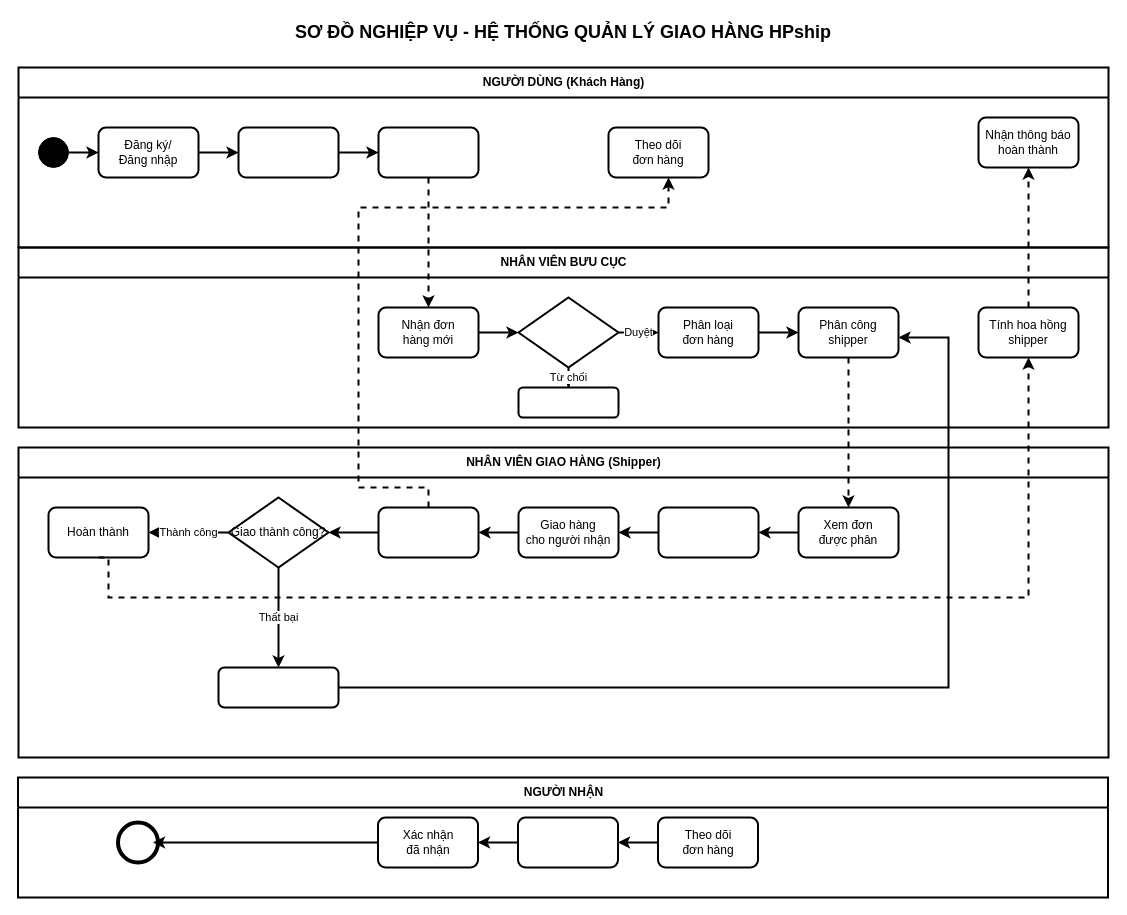
The diagram is 1127 pixels wide and 915 high, and some of its shapes have lost their labels. Each missing label, with the centre of its shape:
"Cập nhật trạng thái" belongs at pixel 428 532.
"Hoàn trả đơn hàng" belongs at pixel 278 687.
"Kiểm tra và duyệt" belongs at pixel 568 332.
"Nhận hàng" belongs at pixel 567 842.
"Nhận hàng tại BC" belongs at pixel 708 532.
"Thanh toán (nếu cần)" belongs at pixel 428 152.
"Tạo đơn hàng" belongs at pixel 288 152.
"Từ chối đơn hàng" belongs at pixel 568 402.
